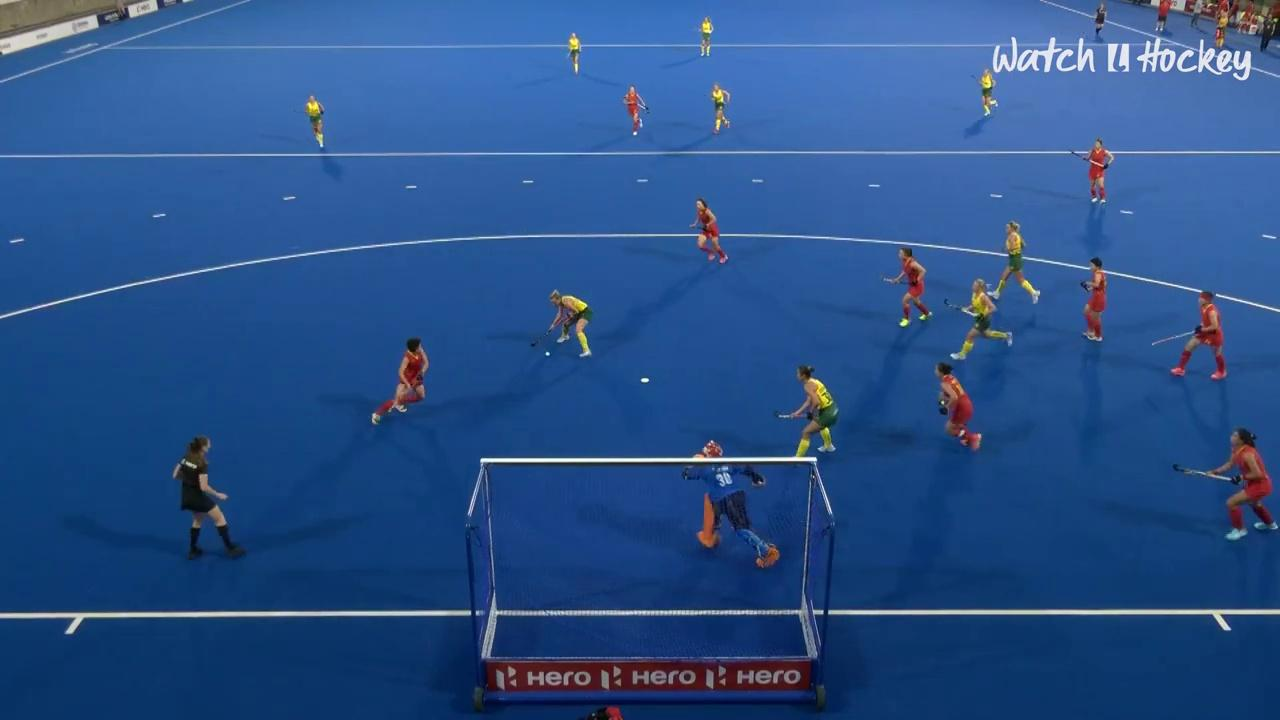ball: (544, 348, 553, 359)
